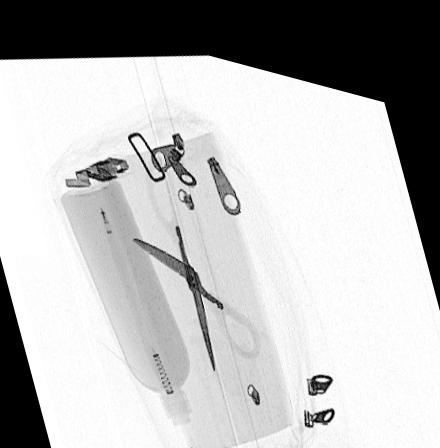Scissors: (129, 149, 263, 361)
